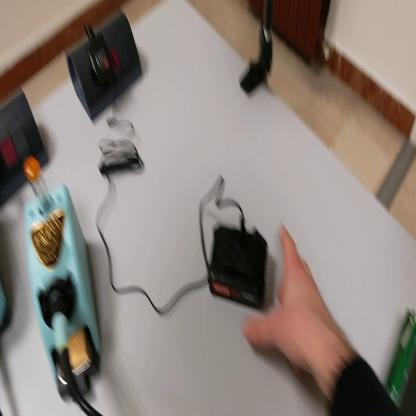electric screwdriver battery: (210, 218, 271, 304)
hand: (244, 221, 332, 379)
low voltage board: (386, 310, 416, 415)
socket: (67, 10, 147, 123), (2, 68, 51, 206)
welder base: (17, 153, 103, 400)
welder probe tip: (50, 283, 72, 384)
